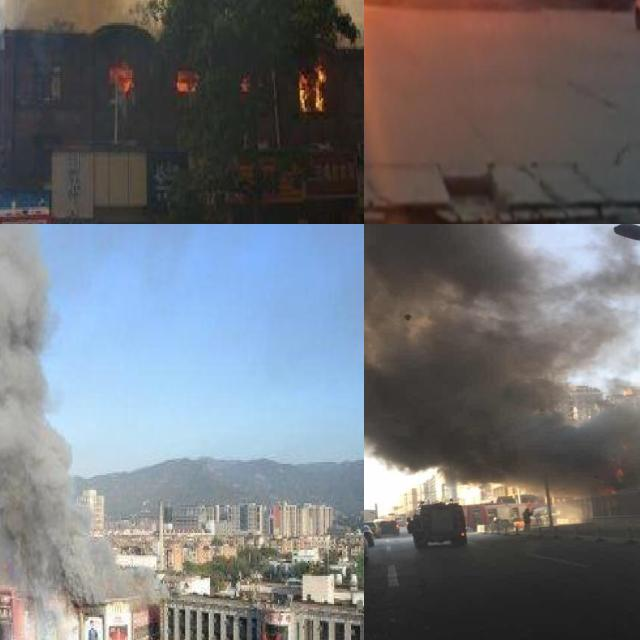fire: (295, 60, 326, 113), (108, 60, 132, 92), (173, 66, 197, 92)
smoke: (364, 224, 640, 491), (0, 224, 141, 610)
